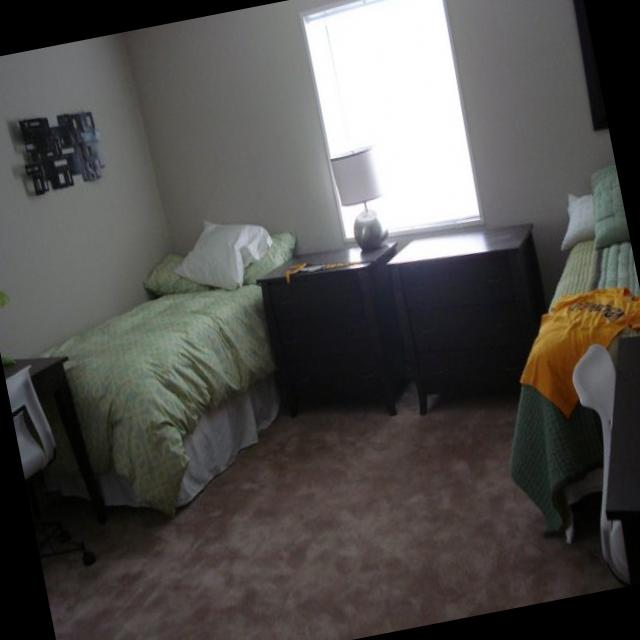Bed skirt: (504, 161, 640, 544)
T-shirt: (524, 286, 640, 417)
Window: (299, 0, 480, 238)
art: (15, 93, 114, 199)
bed -occluded-: (43, 230, 299, 510)
chair -occluded-: (7, 366, 102, 593)
dresser: (386, 219, 547, 413), (262, 241, 414, 421)
lamp crop: (329, 148, 384, 250)
pillow occluded: (176, 218, 270, 285)
wall clock: (125, 0, 506, 284), (0, 32, 180, 386)
